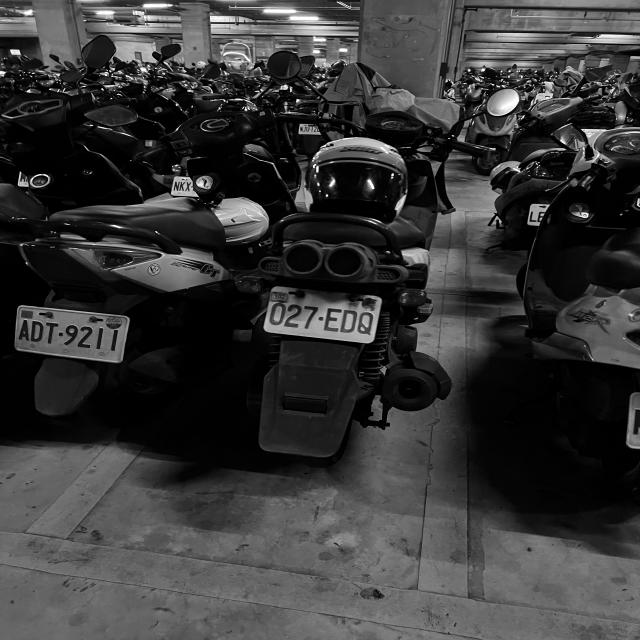-: (58, 330, 64, 337), (318, 315, 324, 321), (310, 129, 311, 130)
0: (268, 302, 287, 327)
1: (110, 328, 120, 352), (95, 327, 105, 350), (311, 127, 313, 132)
2: (283, 304, 303, 328), (76, 326, 94, 349), (313, 127, 317, 132)
7: (304, 304, 318, 329)
9: (63, 324, 80, 347)
A: (17, 318, 31, 342)
D: (339, 309, 359, 335), (30, 319, 46, 343)
E: (323, 306, 344, 333)
J: (303, 127, 306, 132)
K: (179, 181, 186, 191)
L: (529, 211, 537, 223)
N: (173, 181, 180, 191), (300, 126, 303, 132)
Q: (356, 309, 376, 336)
T: (43, 320, 60, 344)
U: (306, 127, 310, 132)
X: (185, 182, 192, 192)
plate: (264, 288, 380, 344), (15, 307, 128, 363)
